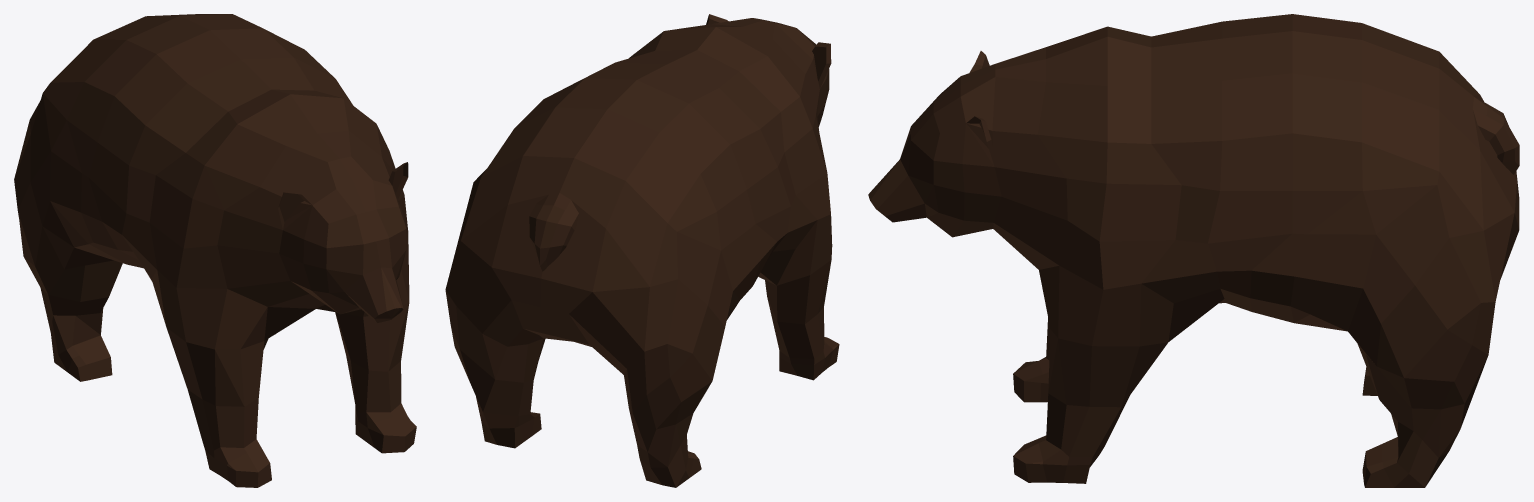
The model's file is TheBearTheBearTheBear.obj.
3 renders of one model, left to right at view 1: azimuth 30°, elevation 25°; view 2: azimuth 150°, elevation 25°; view 3: azimuth 270°, elevation 25°, orthographic. The views are drawn at different scales.
Parts seen in each view (by area): view 1: Cube; view 2: Cube; view 3: Cube.
Boxes of the visible parts, left/top/right/bottom form: Cube: left=14, top=14, right=416, bottom=487; Cube: left=445, top=14, right=839, bottom=487; Cube: left=868, top=14, right=1519, bottom=487.
Size of the model in its own units: 2.43 by 3.16 by 4.63.
